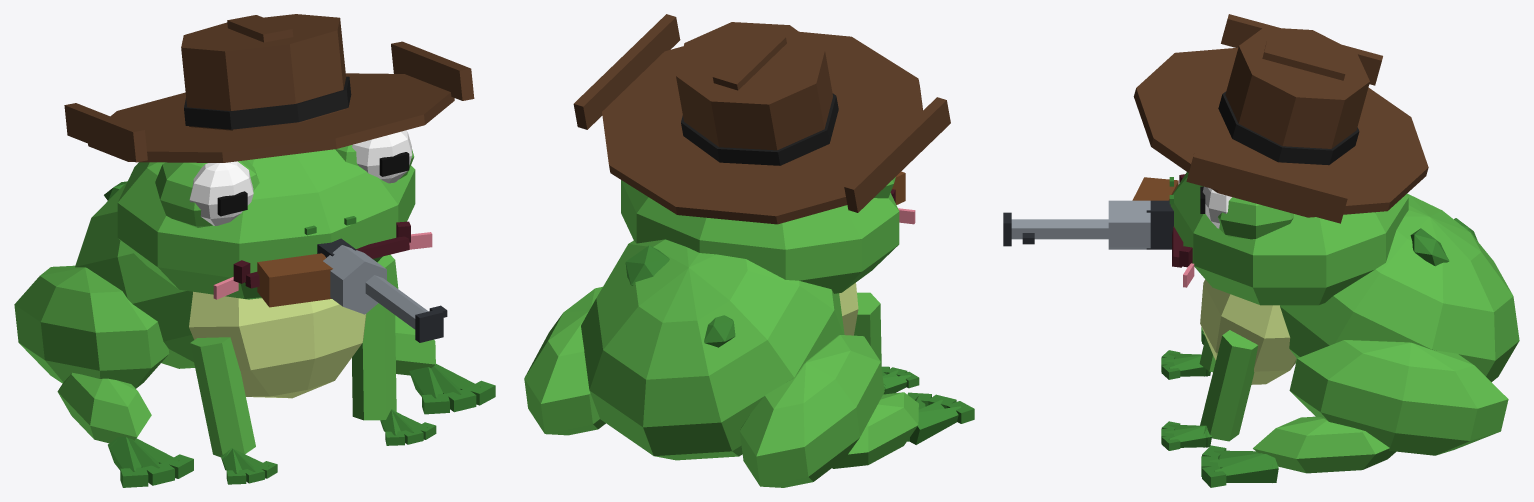
The model's file is Zaba_LowPoly.fbx.
The picture shows the model from 3 angles, left to right: view 1: azimuth 30°, elevation 25°; view 2: azimuth 150°, elevation 25°; view 3: azimuth 270°, elevation 25°; orthographic projection. The views are drawn at different scales.
Parts seen in each view (by area): view 1: Cialo, Kapelusz, Brzuch, Ciemne, OczyBiale, BronStal, KapeluszPasek, BronRekojesc, Pysk, Bron, Zrenice, Policzki; view 2: Cialo, Kapelusz, Ciemne, KapeluszPasek, Brzuch; view 3: Cialo, Kapelusz, Ciemne, Brzuch, BronStal, KapeluszPasek, Bron, BronRekojesc, OczyBiale, Pysk.
Boxes of the visible parts, x1,y1,x2,y2 form: Cialo: [14, 145, 435, 457]; Kapelusz: [64, 14, 474, 162]; Brzuch: [189, 291, 366, 398]; Ciemne: [104, 181, 495, 487]; OczyBiale: [189, 130, 412, 225]; BronStal: [323, 245, 428, 329]; KapeluszPasek: [184, 76, 351, 129]; BronRekojesc: [257, 253, 332, 307]; Pysk: [233, 221, 410, 288]; Bron: [317, 238, 447, 342]; Zrenice: [217, 152, 409, 216]; Policzki: [213, 232, 432, 299]; Cialo: [524, 177, 918, 487]; Kapelusz: [573, 14, 950, 224]; Ciemne: [625, 245, 974, 444]; KapeluszPasek: [681, 93, 838, 165]; Brzuch: [839, 282, 858, 335]; Cialo: [1170, 172, 1519, 473]; Kapelusz: [1133, 14, 1428, 223]; Ciemne: [1161, 177, 1477, 487]; Brzuch: [1200, 279, 1296, 384]; BronStal: [1011, 200, 1150, 249]; KapeluszPasek: [1218, 91, 1359, 165]; Bron: [1003, 200, 1173, 249]; BronRekojesc: [1132, 177, 1178, 200]; OczyBiale: [1202, 186, 1231, 228]; Pysk: [1172, 174, 1192, 267].
Size of the model in its own units: 4.7 by 4.78 by 6.13.
1 material, 1 textured.
